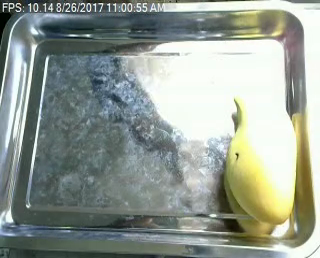Mango: (218, 88, 303, 228)
